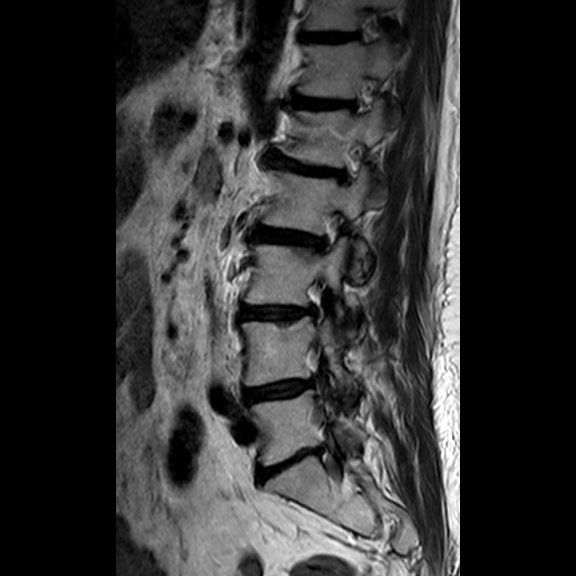LFS0: (308, 199, 354, 264), (293, 268, 339, 332)
